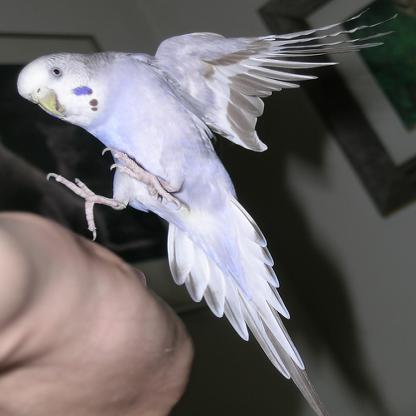bird: (13, 5, 400, 415)
